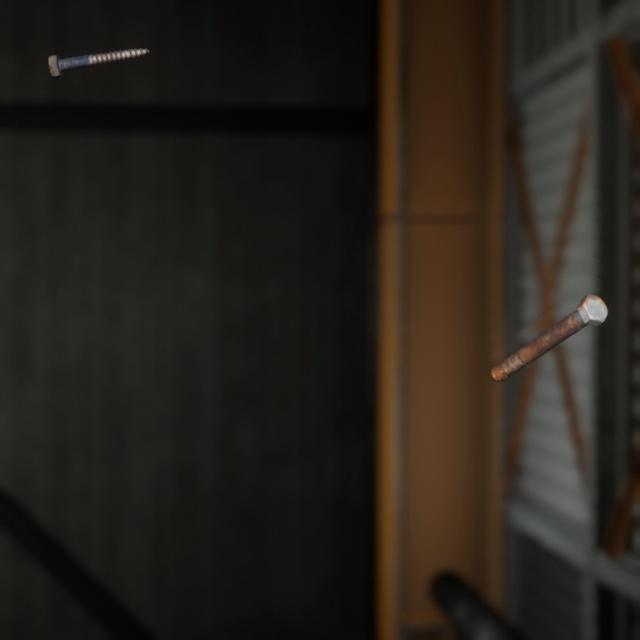bolt: (485, 271, 612, 368), (43, 33, 154, 72)
